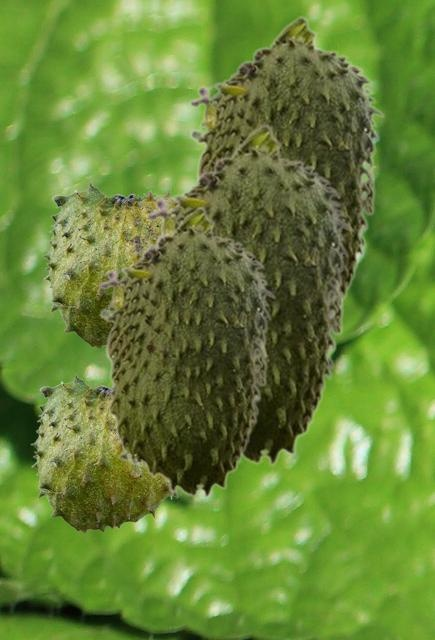guyabano: (146, 122, 353, 465), (189, 15, 384, 302), (99, 206, 275, 497), (30, 373, 178, 532), (42, 181, 175, 348)
